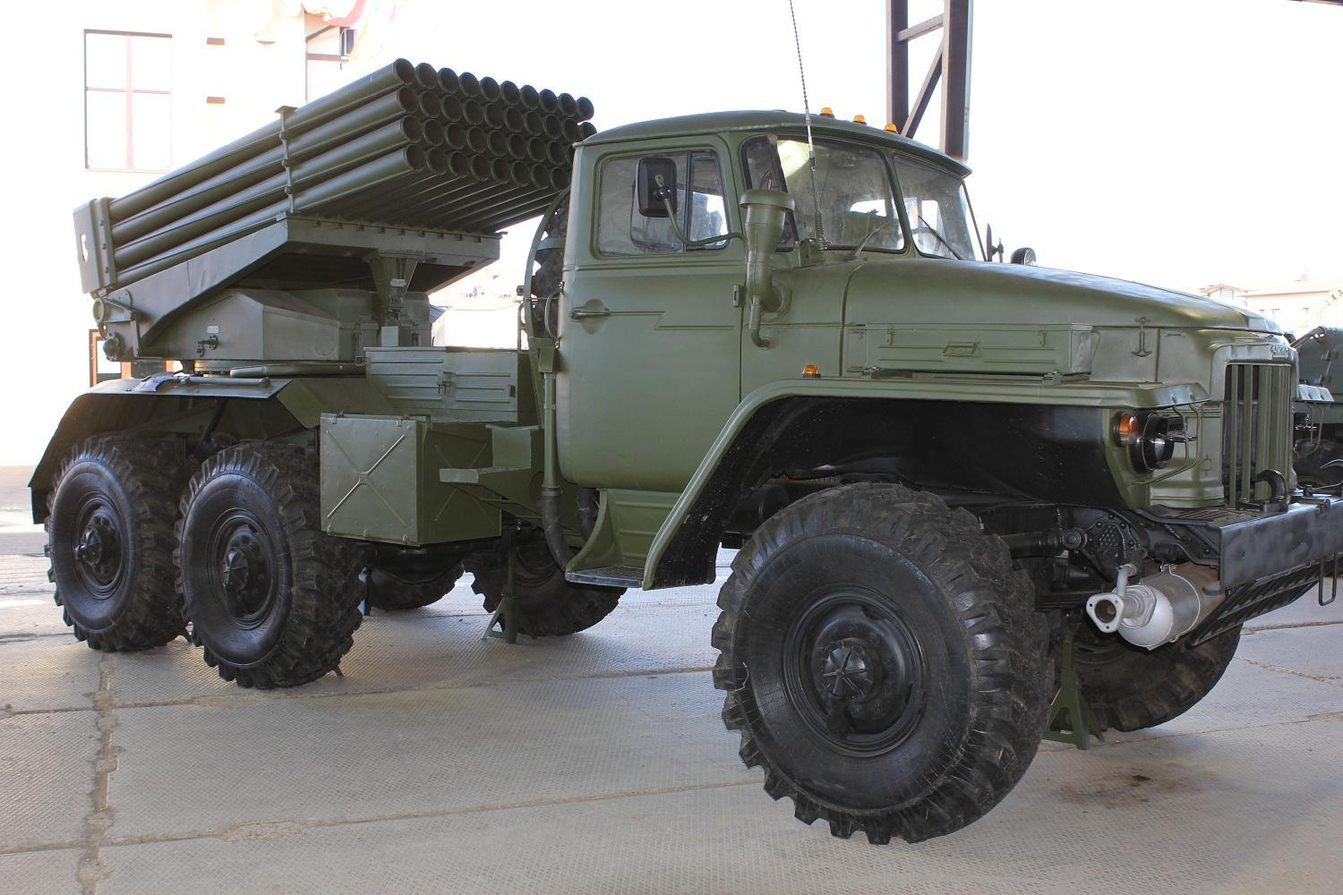rszo: (47, 56, 1322, 846)
